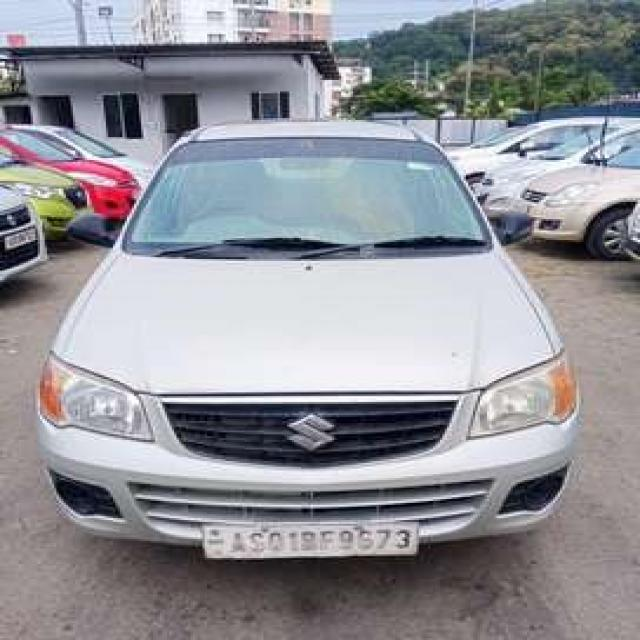Plate: (201, 521, 415, 557)
